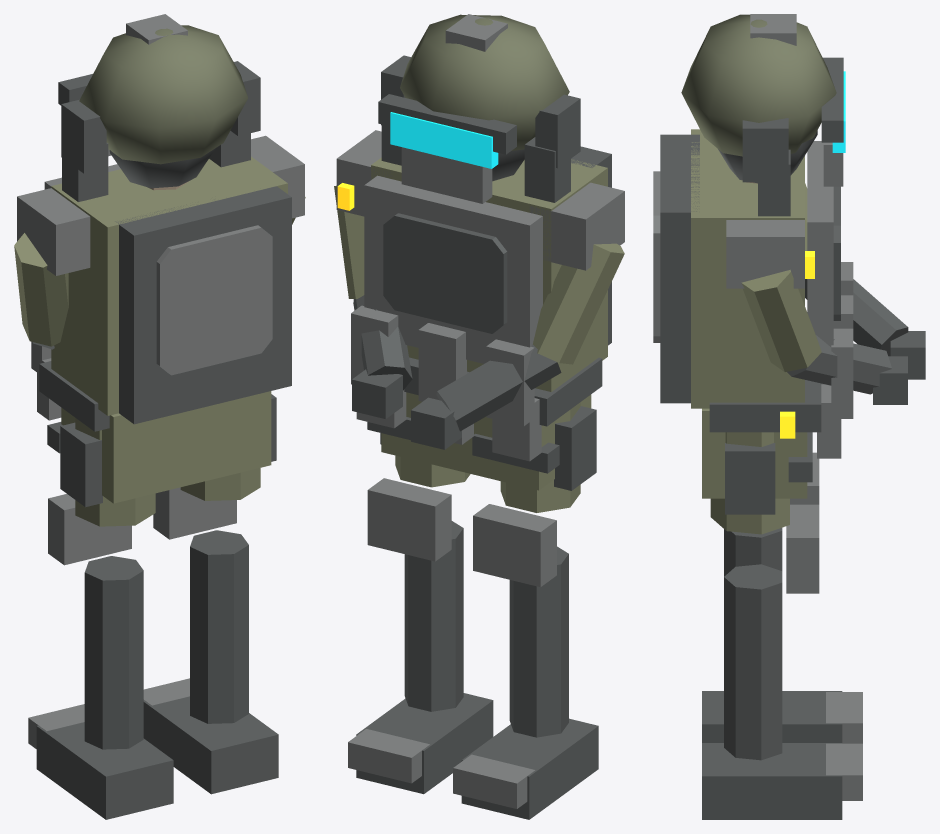
File: soldier.glb
3 renders of one model, left to right at view 1: azimuth 30°, elevation 25°; view 2: azimuth 150°, elevation 25°; view 3: azimuth 270°, elevation 25°, orthographic.
Parts seen in each view (by area): view 1: soldier_backpack, soldier_helmet_shell, soldier_torso_cloth, soldier_backpack_plate, soldier_pelvis_cloth, soldier_l_shin, soldier_r_shin, soldier_l_boot, soldier_r_boot, soldier_shoulder_pad_-0.19, soldier_l_upper_arm, soldier_l_knee_pad (+16 smaller); view 2: soldier_chest_plate, soldier_helmet_shell, soldier_chest_inner_panel, soldier_r_shin, soldier_l_shin, soldier_l_boot, soldier_r_boot, soldier_torso_cloth, soldier_r_knee_pad, soldier_l_knee_pad, soldier_l_upper_arm, soldier_shoulder_pad_-0.19 (+29 smaller); view 3: soldier_torso_cloth, soldier_helmet_shell, soldier_r_shin, soldier_r_boot, soldier_backpack, soldier_r_upper_arm, soldier_shoulder_pad_0.19, soldier_chest_plate, soldier_l_boot, soldier_r_side_pouch, soldier_belt_dark, soldier_pelvis_cloth (+22 smaller).
Boxes of the visible parts, bbox=[...] form: soldier_backpack: bbox=[115, 186, 291, 424]; soldier_helmet_shell: bbox=[79, 25, 247, 164]; soldier_torso_cloth: bbox=[51, 156, 287, 415]; soldier_backpack_plate: bbox=[156, 225, 272, 375]; soldier_pelvis_cloth: bbox=[61, 391, 271, 503]; soldier_l_shin: bbox=[84, 556, 143, 749]; soldier_r_shin: bbox=[190, 530, 248, 723]; soldier_l_boot: bbox=[36, 722, 173, 819]; soldier_r_boot: bbox=[143, 696, 278, 794]; soldier_shoulder_pad_-0.19: bbox=[17, 188, 90, 275]; soldier_l_upper_arm: bbox=[14, 233, 68, 346]; soldier_l_knee_pad: bbox=[48, 494, 131, 565]; soldier_chest_plate: bbox=[364, 175, 542, 363]; soldier_helmet_shell: bbox=[400, 14, 569, 150]; soldier_chest_inner_panel: bbox=[383, 213, 507, 333]; soldier_r_shin: bbox=[404, 521, 463, 711]; soldier_l_shin: bbox=[509, 546, 568, 737]; soldier_l_boot: bbox=[461, 718, 598, 819]; soldier_r_boot: bbox=[356, 693, 493, 794]; soldier_torso_cloth: bbox=[371, 157, 607, 391]; soldier_r_knee_pad: bbox=[367, 478, 451, 561]; soldier_l_knee_pad: bbox=[473, 504, 556, 587]; soldier_l_upper_arm: bbox=[533, 243, 624, 364]; soldier_shoulder_pad_-0.19: bbox=[529, 182, 624, 270]; soldier_torso_cloth: bbox=[691, 129, 804, 408]; soldier_helmet_shell: bbox=[681, 14, 836, 156]; soldier_r_shin: bbox=[724, 564, 782, 760]; soldier_r_boot: bbox=[702, 743, 842, 819]; soldier_backpack: bbox=[660, 134, 699, 403]; soldier_r_upper_arm: bbox=[741, 269, 821, 371]; soldier_shoulder_pad_0.19: bbox=[726, 220, 804, 288]; soldier_chest_plate: bbox=[807, 141, 833, 347]; soldier_l_boot: bbox=[702, 691, 842, 742]; soldier_r_side_pouch: bbox=[725, 443, 775, 514]; soldier_belt_dark: bbox=[709, 380, 821, 432]; soldier_pelvis_cloth: bbox=[702, 408, 807, 498].
Size of the model in its own units: 0.6924 by 1.75 by 0.5713.
